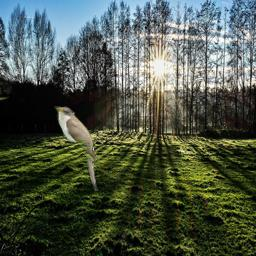Cuckoo: (52, 104, 99, 192)
